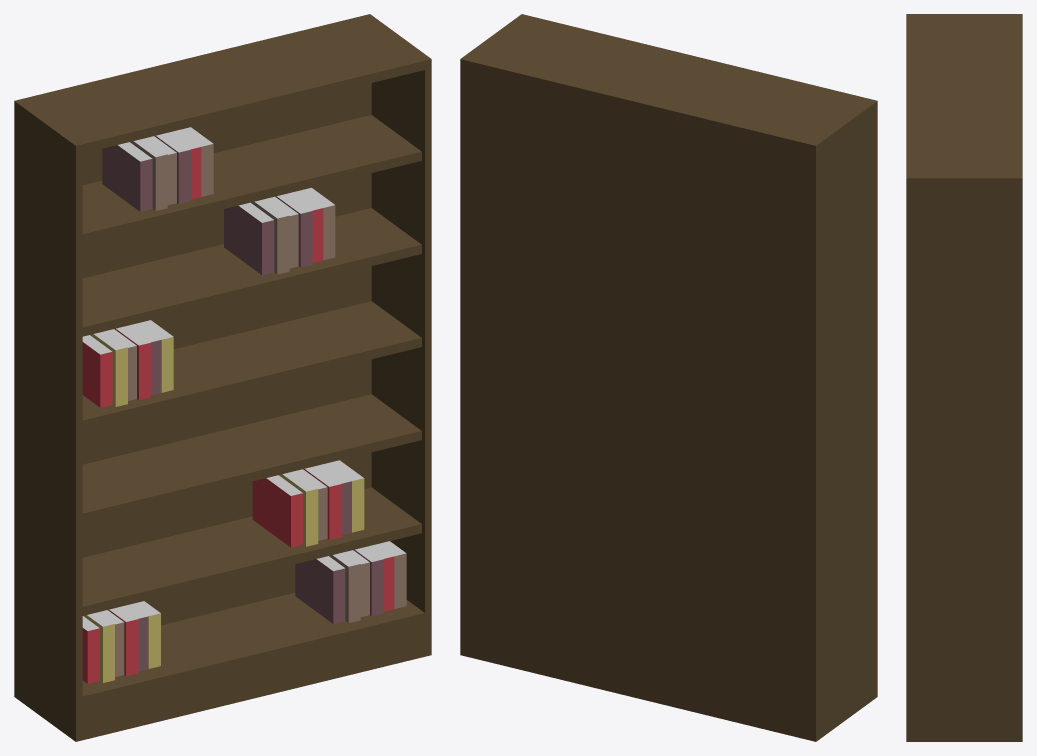
Rendered from bookcase.fbx.
3 renders of one model, left to right at view 1: azimuth 30°, elevation 25°; view 2: azimuth 150°, elevation 25°; view 3: azimuth 270°, elevation 25°, orthographic. The views are drawn at different scales.
Parts seen in each view (by area): view 1: bookcase, books4, books2, books1, books6, books3, books5; view 2: bookcase; view 3: bookcase.
Boxes of the visible parts, x1,y1,x2,y2 form: bookcase: (14,14,431,741); books4: (252,460,364,547); books2: (224,187,335,275); books1: (102,127,213,211); books6: (295,541,406,623); books3: (82,320,173,407); books5: (82,601,160,683); bookcase: (460,14,877,741); bookcase: (906,14,1022,741).
Size of the model in its own units: 300 by 480 by 90.
